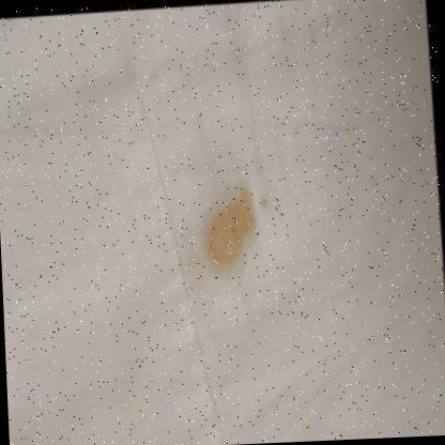kimchi: (194, 183, 265, 273)
